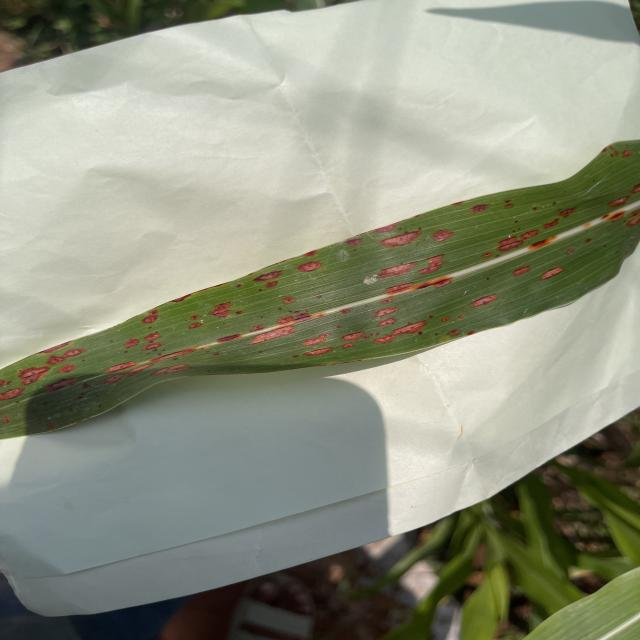millet_rust: (0, 134, 640, 444)
